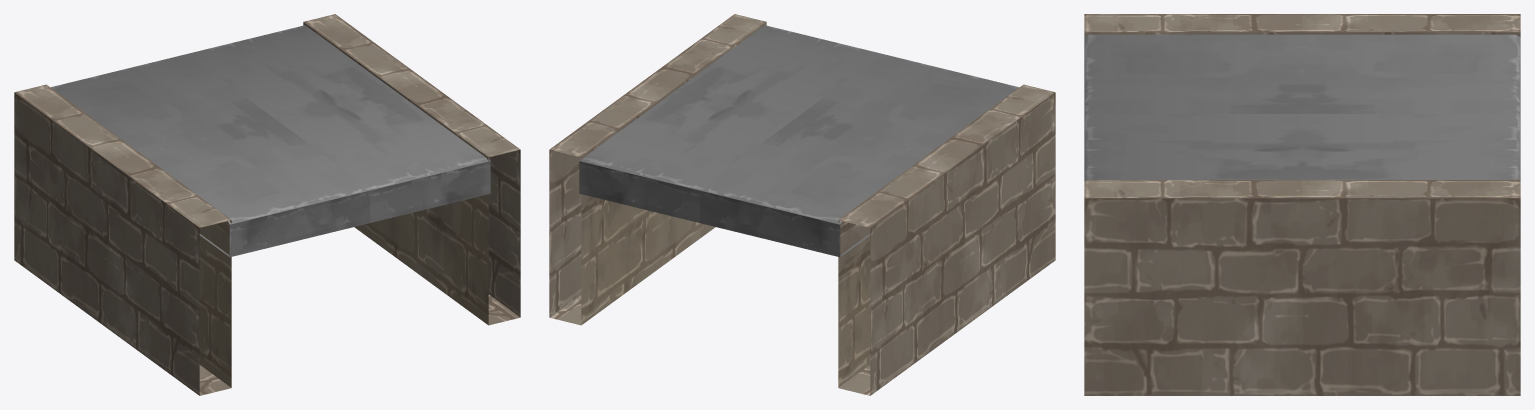
Rendered from Stairs_Exterior_Platform.gltf.
The picture shows the model from 3 angles, left to right: view 1: azimuth 30°, elevation 25°; view 2: azimuth 150°, elevation 25°; view 3: azimuth 270°, elevation 25°; orthographic projection. The views are drawn at different scales.
Parts seen in each view (by area): view 1: Stairs_Exterior_Platform; view 2: Stairs_Exterior_Platform; view 3: Stairs_Exterior_Platform.
Part boxes in pixels (x1,y1,x2,y2): Stairs_Exterior_Platform: [14, 14, 520, 395]; Stairs_Exterior_Platform: [549, 14, 1055, 395]; Stairs_Exterior_Platform: [1084, 14, 1520, 395].
Size of the model in its own units: 2 by 1 by 2.
Materials: 2 (2 with a texture image).
